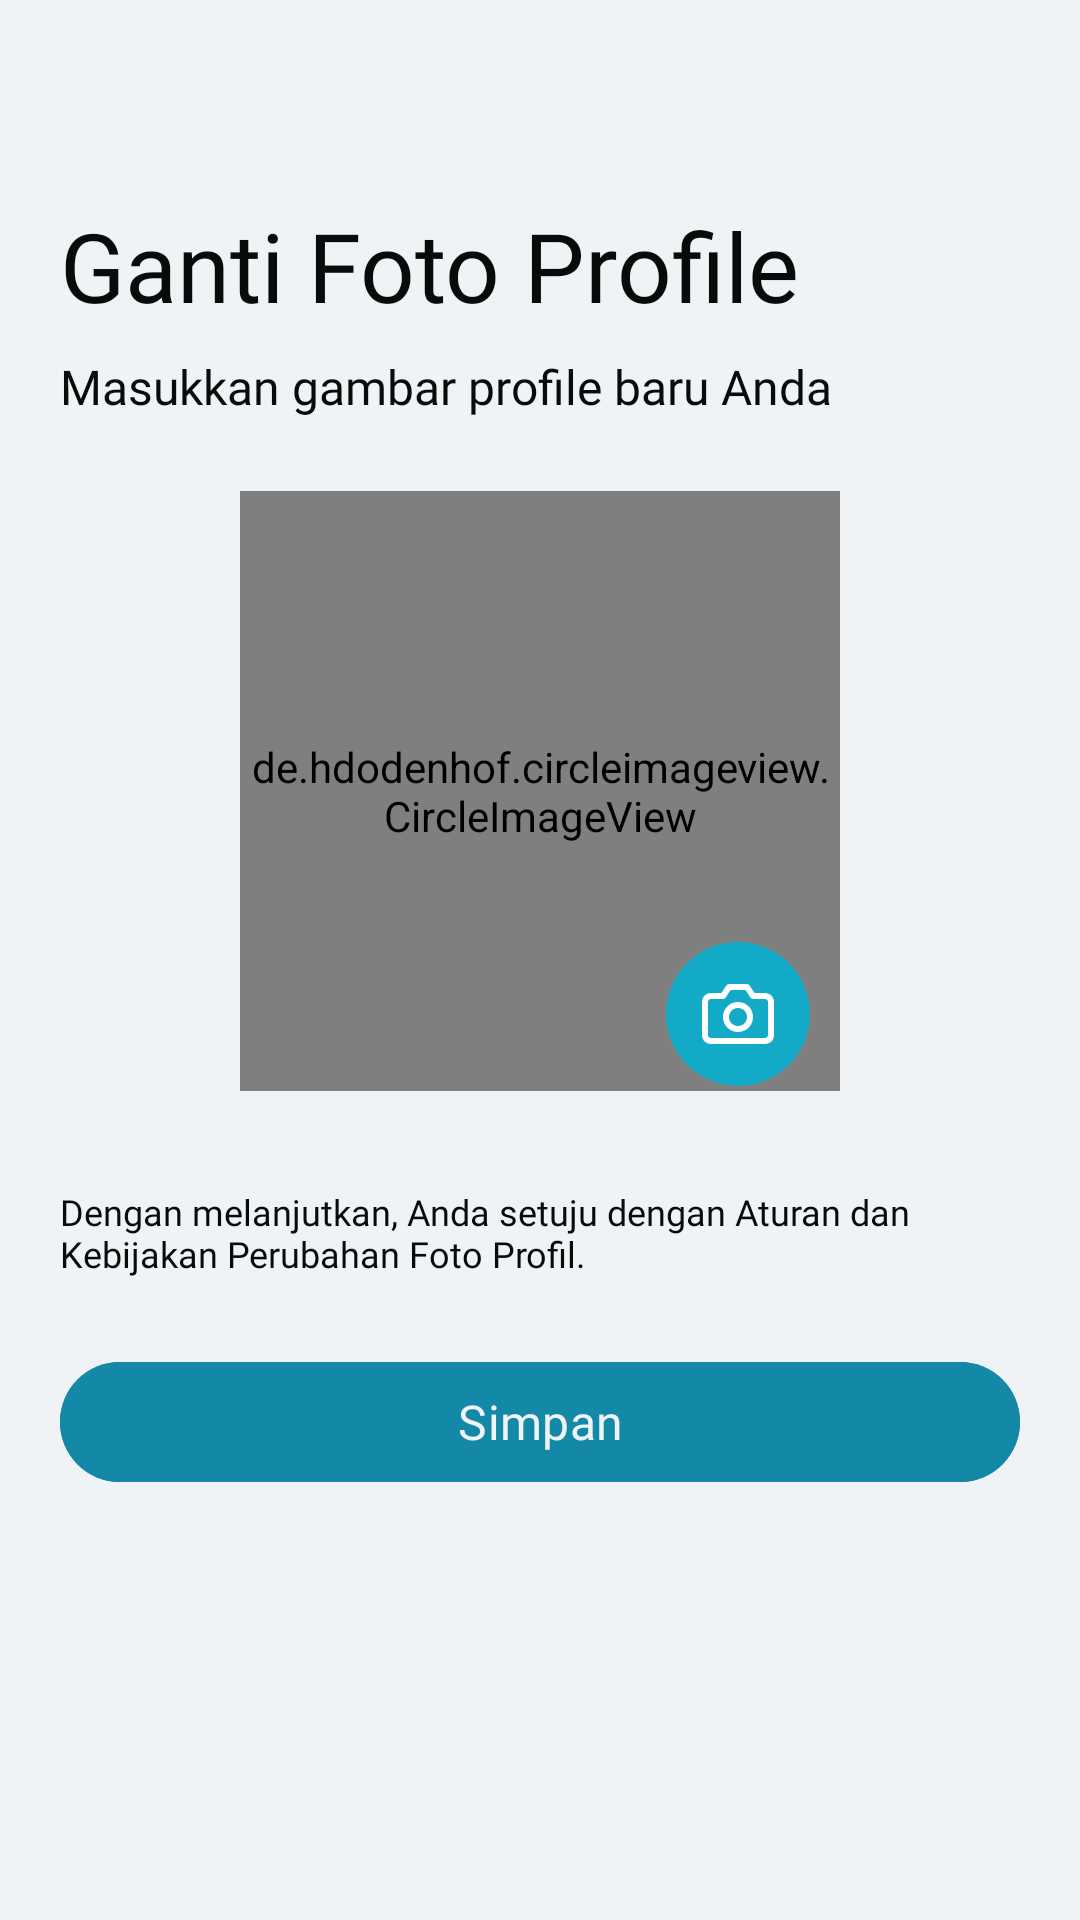

Icons on this 1080*1920 Android screen, each with the point to tap as (x,y):
camera: (738,1014)
